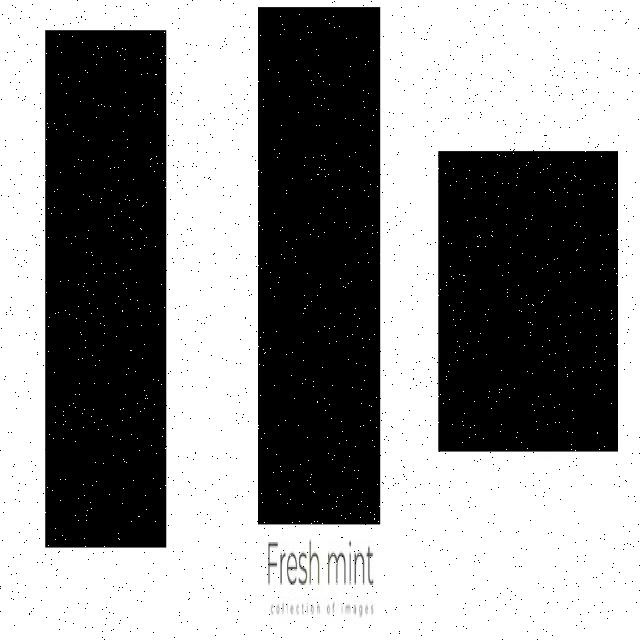Green_Mint: (258, 8, 380, 524), (46, 30, 167, 548), (439, 151, 618, 452)
